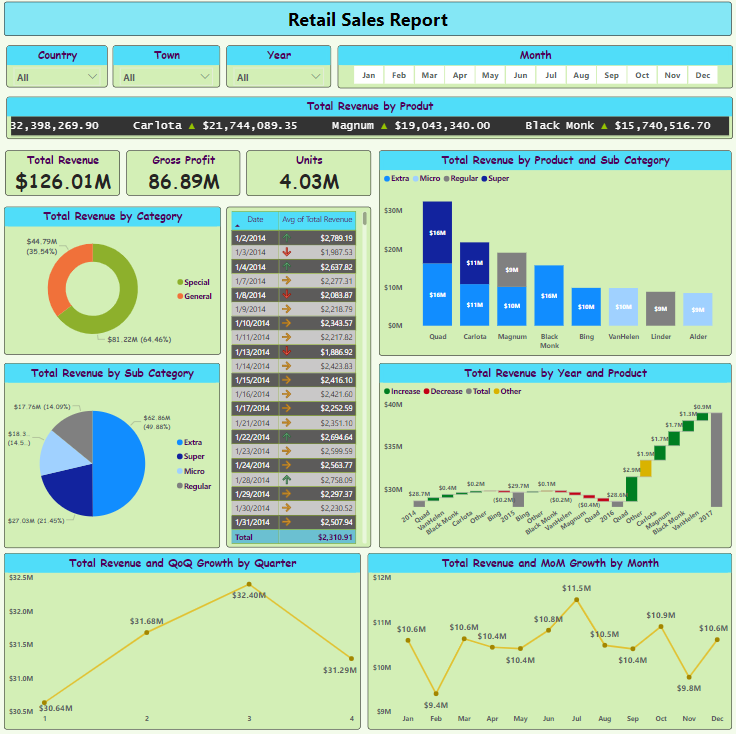

What the dashboard file says about the page in this screenshot:
{"tool":"powerbi","page":{"name":"Sales Report","canvas":[1300,1300],"ordinal":0},"visuals":[{"type":"textbox","box":[9.6,7.5,1280,59.7],"z":0},{"type":"slicer","title":"Town","fields":{"Values":["Geography.Town"]},"box":[199.8,83.5,188.9,73.8],"z":1000},{"type":"slicer","title":"Year","fields":{"Values":["DateMaster.Year"]},"box":[400.7,83.8,183.7,73.3],"z":2000},{"type":"slicer","title":"Month","fields":{"Values":["DateMaster.Month"]},"box":[594.9,82.8,694.8,75.2],"z":3000},{"type":"card","title":"Total Revenue","fields":{"Values":["Sum(Sales.Total Revenue)"]},"box":[11.5,268,201.3,79.5],"z":4000},{"type":"card","title":"Gross Profit","fields":{"Values":["Sum(Sales.Gross Profit)"]},"box":[224.4,268,200,79.5],"z":5000},{"type":"card","title":"Units","fields":{"Values":["Sum(Sales.Units)"]},"box":[435.8,267.6,219.1,79.9],"z":6000},{"type":"donutChart","title":"Total Revenue by Category","fields":{"Y":["Sum(Sales.Total Revenue)"],"Category":["Categories.Category"]},"box":[8.5,368,381.4,260.3],"z":7000},{"type":"pieChart","title":"Total Revenue by Sub Category","fields":{"Y":["Sum(Sales.Total Revenue)"],"Category":["Sub categories.SubCategory Name"]},"box":[9.7,641.6,380.1,325.7],"z":8000},{"type":"ScrollingTextVisual1448795304508","title":"Total Revenue by Produt","fields":{"Category":["Product.ProductName"],"Measure Deviation":["Sum(Sales.Total Revenue)"]},"box":[12.4,173.2,1277.3,74.2],"z":9000},{"type":"waterfallChart","title":"Total Revenue by Year and Product","fields":{"Breakdown":["Product.ProductName"],"Y":["Sum(Sales.Total Revenue)"],"Category":["DateMaster.Year"]},"box":[668.3,641.6,619.9,325.7],"z":10000},{"type":"columnChart","title":"Total Revenue by Product and Sub Category","fields":{"Category":["Product.ProductName"],"Y":["Sum(Sales.Total Revenue)"],"Series":["Sub categories.SubCategory Name"]},"box":[668.2,268.4,619.6,360.7],"z":11000},{"type":"lineChart","title":"Total Revenue and QoQ Growth by Quarter","fields":{"Category":["DateMaster.Quarter"],"Y":["Sum(Sales.Total Revenue)"]},"box":[8.6,976.6,627.3,310.3],"z":12000},{"type":"lineChart","title":"Total Revenue and MoM Growth by Month","fields":{"Y":["Sum(Sales.Total Revenue)"],"Category":["DateMaster.Month"]},"box":[649.1,976.6,640.6,310.3],"z":13000},{"type":"tableEx","fields":{"Values":["DateMaster.Date","Avg(Sales.Total Revenue)"]},"box":[400.7,368,254.2,599.3],"z":14000},{"type":"slicer","title":"Country","fields":{"Values":["Geography.Country"]},"box":[12.1,83.5,178,73.8],"z":15000}]}

Visuals, with their boxes in screenshot pixels (x1, y1, x2, y2), scaled from the page's 1300x1300 canvas onto the 736x734 screenshot:
textbox: pyautogui.locateOnScreen(5, 4, 730, 38)
"Town" slicer: pyautogui.locateOnScreen(113, 47, 220, 89)
"Year" slicer: pyautogui.locateOnScreen(227, 47, 331, 89)
"Month" slicer: pyautogui.locateOnScreen(337, 47, 730, 89)
"Total Revenue" card: pyautogui.locateOnScreen(7, 151, 120, 196)
"Gross Profit" card: pyautogui.locateOnScreen(127, 151, 240, 196)
"Units" card: pyautogui.locateOnScreen(247, 151, 371, 196)
"Total Revenue by Category" donutChart: pyautogui.locateOnScreen(5, 208, 221, 355)
"Total Revenue by Sub Category" pieChart: pyautogui.locateOnScreen(5, 362, 221, 546)
"Total Revenue by Produt" ScrollingTextVisual1448795304508: pyautogui.locateOnScreen(7, 98, 730, 140)
"Total Revenue by Year and Product" waterfallChart: pyautogui.locateOnScreen(378, 362, 729, 546)
"Total Revenue by Product and Sub Category" columnChart: pyautogui.locateOnScreen(378, 152, 729, 355)
"Total Revenue and QoQ Growth by Quarter" lineChart: pyautogui.locateOnScreen(5, 551, 360, 727)
"Total Revenue and MoM Growth by Month" lineChart: pyautogui.locateOnScreen(367, 551, 730, 727)
tableEx - DateMaster.Date x Avg(Sales.Total Revenue): pyautogui.locateOnScreen(227, 208, 371, 546)
"Country" slicer: pyautogui.locateOnScreen(7, 47, 108, 89)
